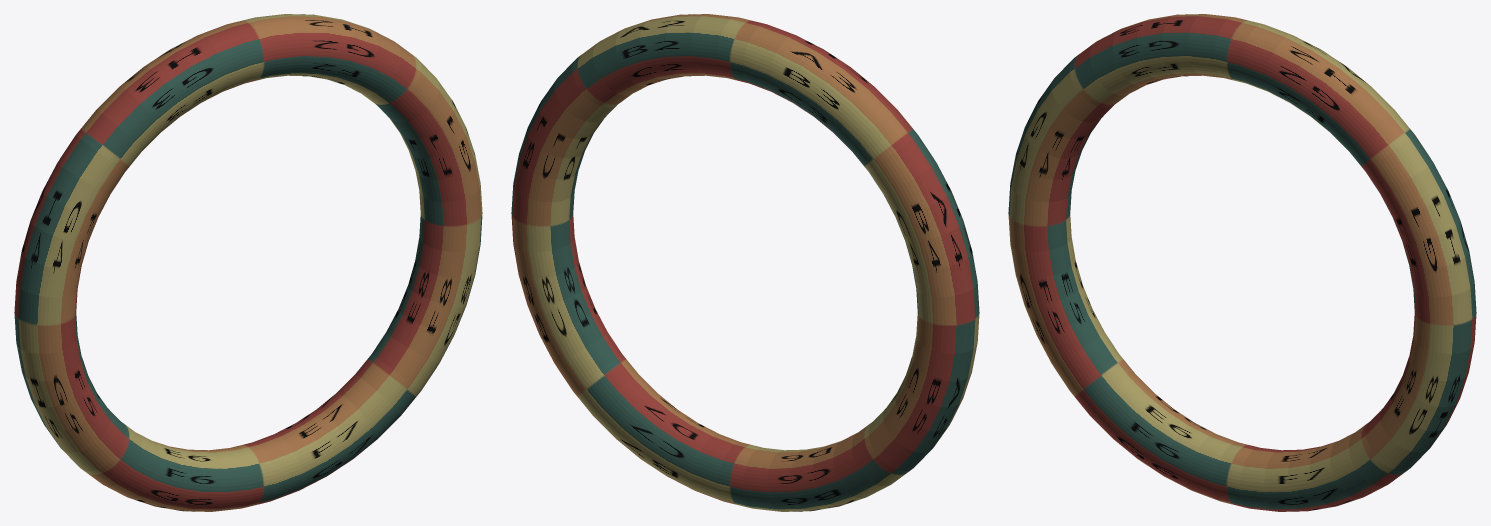
The model's file is texture_torus_R29_r7.glb.
3 renders of one model, left to right at view 1: azimuth 30°, elevation 25°; view 2: azimuth 150°, elevation 25°; view 3: azimuth 330°, elevation 25°, orthographic.
Parts seen in each view (by area): view 1: world; view 2: world; view 3: world.
Part boxes in pixels (x1,y1,x2,y2): world: (14,14,482,511); world: (511,14,979,511); world: (1008,14,1476,511).
Size of the model in its own units: 33.2 by 33.13 by 3.86.
1 material, 1 textured.
